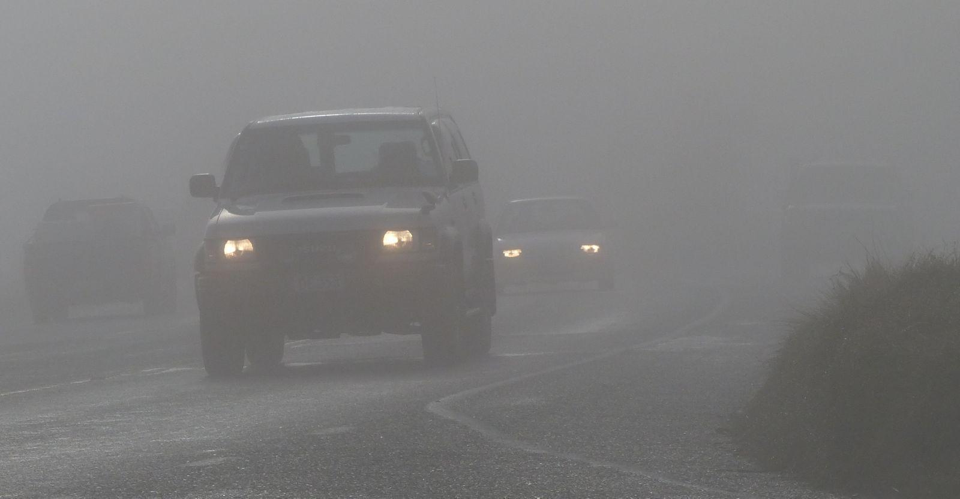car: (185, 102, 501, 377), (16, 195, 179, 324), (774, 162, 921, 283), (487, 194, 616, 295)
